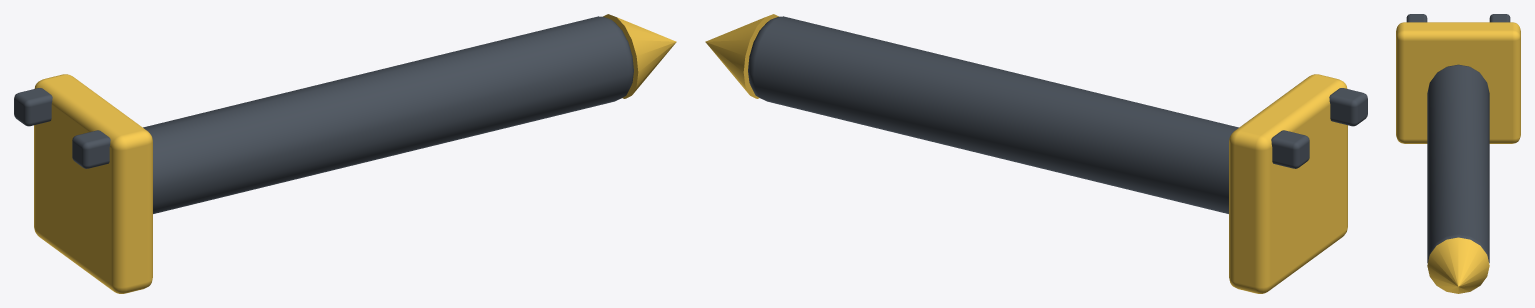
The model's file is mandril.glb.
The picture shows the model from 3 angles, left to right: view 1: azimuth 30°, elevation 25°; view 2: azimuth 150°, elevation 25°; view 3: azimuth 270°, elevation 25°; orthographic projection. The views are drawn at different scales.
Parts seen in each view (by area): view 1: haste, placa_fixacao, gancho_garfo (×2), ponta; view 2: haste, placa_fixacao, gancho_garfo (×2), ponta; view 3: haste, placa_fixacao, ponta, gancho_garfo (×2).
Part boxes in pixels (x1=…): haste: x1=143, y1=16, x2=633, y2=213; placa_fixacao: x1=34, y1=74, x2=152, y2=293; gancho_garfo (×2): x1=14, y1=88, x2=110, y2=168; ponta: x1=603, y1=14, x2=676, y2=98; haste: x1=748, y1=16, x2=1238, y2=213; placa_fixacao: x1=1229, y1=74, x2=1347, y2=293; gancho_garfo (×2): x1=1271, y1=88, x2=1367, y2=168; ponta: x1=705, y1=14, x2=778, y2=98; haste: x1=1427, y1=64, x2=1489, y2=262; placa_fixacao: x1=1396, y1=22, x2=1520, y2=143; ponta: x1=1427, y1=237, x2=1489, y2=293; gancho_garfo (×2): x1=1406, y1=14, x2=1510, y2=22.
Size of the model in its own units: 1.25 by 0.3 by 0.3.
